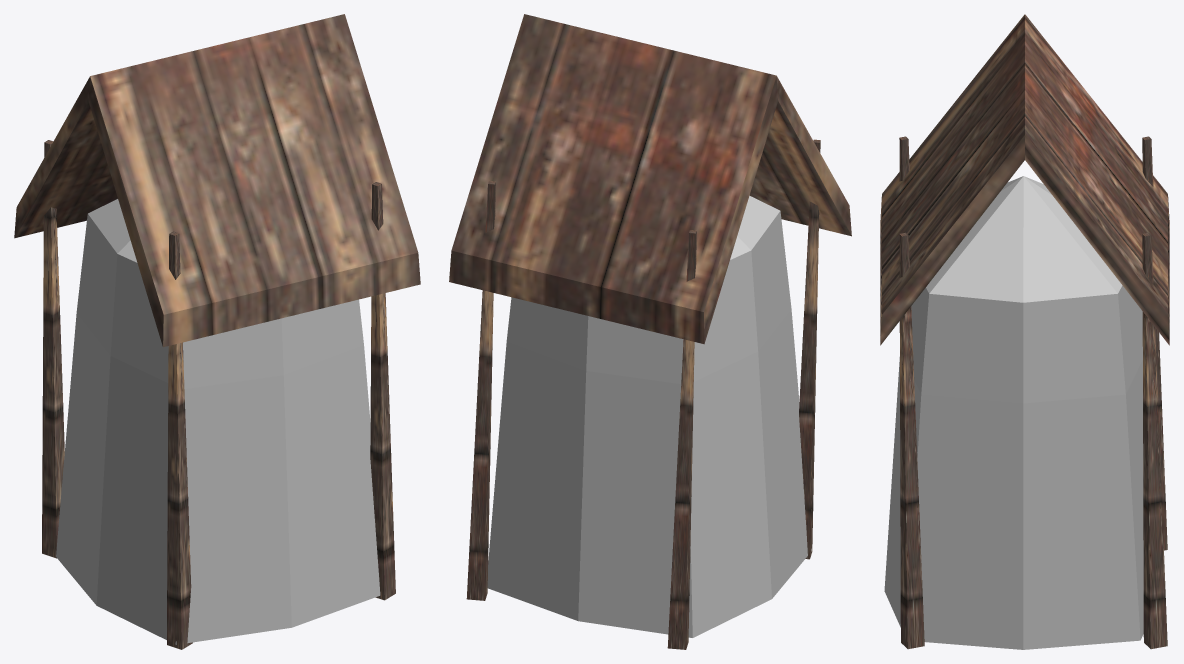
Rendered from HayStackRoofed.fbx.
3 renders of one model, left to right at view 1: azimuth 30°, elevation 25°; view 2: azimuth 150°, elevation 25°; view 3: azimuth 270°, elevation 25°, orthographic. The views are drawn at different scales.
Parts seen in each view (by area): view 1: Cube, Cube.001, Cube.005, Cube.002, Cube.004; view 2: Cube, Cube.001, Cube.002, Cube.003, Cube.005; view 3: Cube, Cube.001, Cube.004, Cube.003, Cube.002, Cube.005.
Part boxes in pixels (x1,y1,x2,y2): Cube: [56, 199, 380, 644]; Cube.001: [14, 14, 420, 347]; Cube.005: [167, 231, 192, 649]; Cube.002: [42, 140, 64, 558]; Cube.004: [370, 182, 395, 600]; Cube: [487, 195, 811, 637]; Cube.001: [449, 14, 851, 344]; Cube.002: [667, 230, 696, 649]; Cube.003: [466, 181, 495, 600]; Cube.005: [799, 139, 820, 559]; Cube: [884, 176, 1143, 649]; Cube.001: [880, 14, 1169, 345]; Cube.004: [899, 232, 924, 649]; Cube.003: [1142, 232, 1167, 649]; Cube.002: [1142, 136, 1167, 550]; Cube.005: [899, 136, 909, 181].
Bounding box in the file's own units: 175 × 347 × 175.
